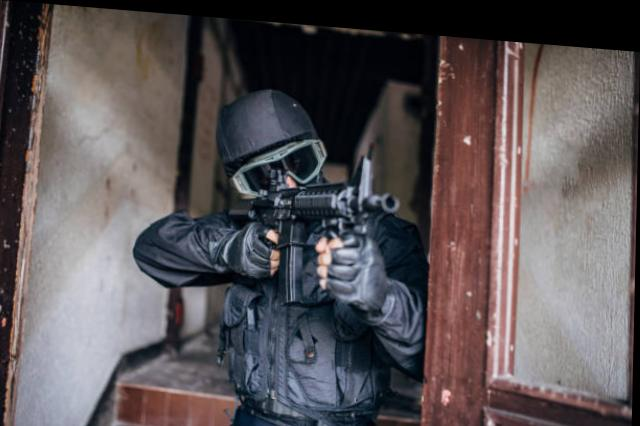other: (159, 103, 420, 424)
